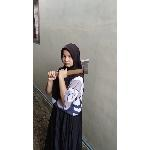Kapak: (44, 57, 92, 78)
